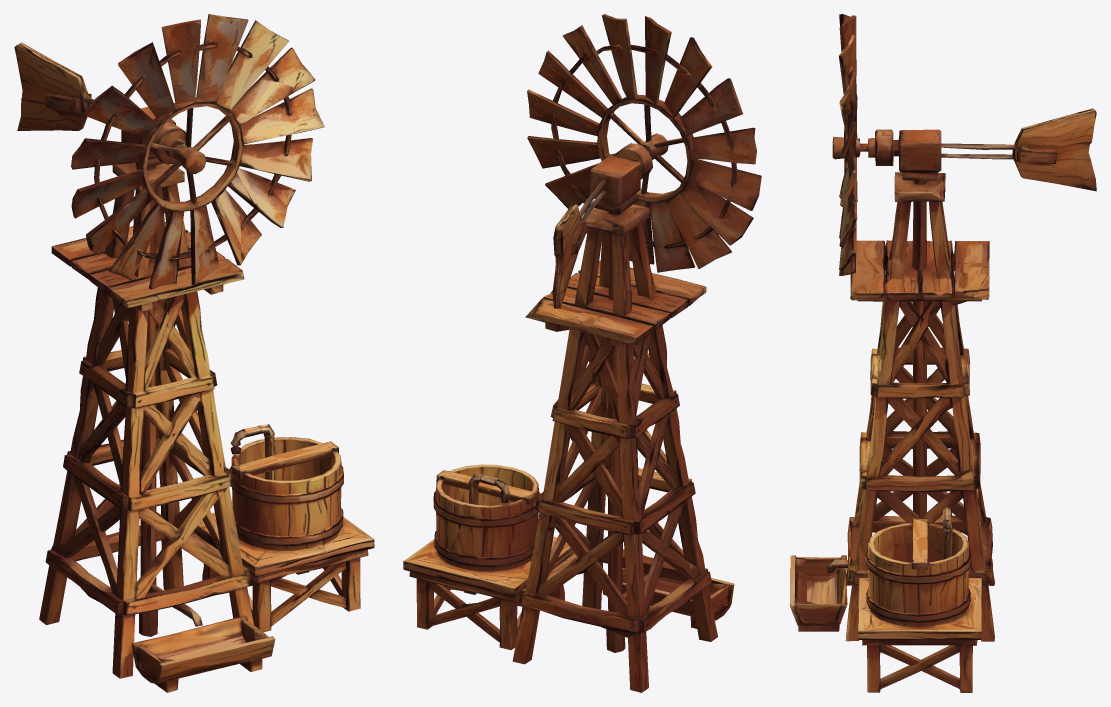
File: wl_eolienne.glb
3 views of the same model, side by side, from view 1: azimuth 30°, elevation 25°; view 2: azimuth 150°, elevation 25°; view 3: azimuth 270°, elevation 25° (orthographic). The views are drawn at different scales.
Parts seen in each view (by area): view 1: wl_eolienne; view 2: wl_eolienne; view 3: wl_eolienne.
Boxes of the visible parts, x1,y1,x2,y2 form: wl_eolienne: [14, 14, 374, 692]; wl_eolienne: [403, 14, 761, 692]; wl_eolienne: [790, 14, 1096, 692].
Size of the model in its own units: 5.51 by 11 by 5.18.
Materials: 1 (1 with a texture image).
